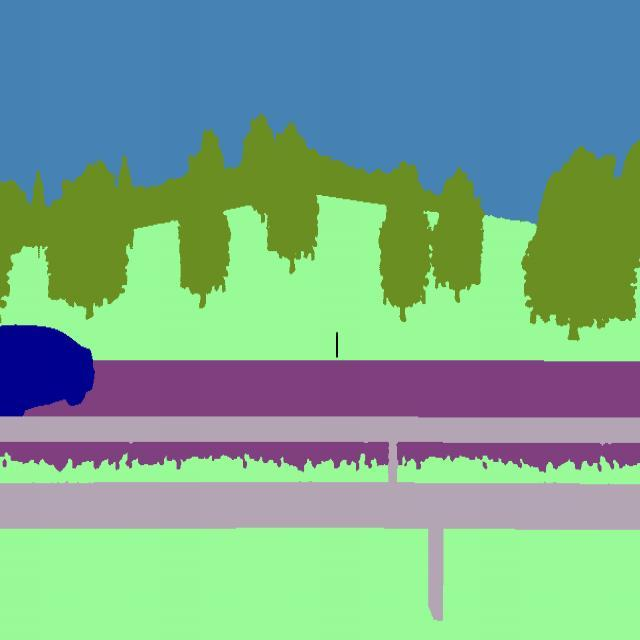safe: (0, 318, 95, 420)
